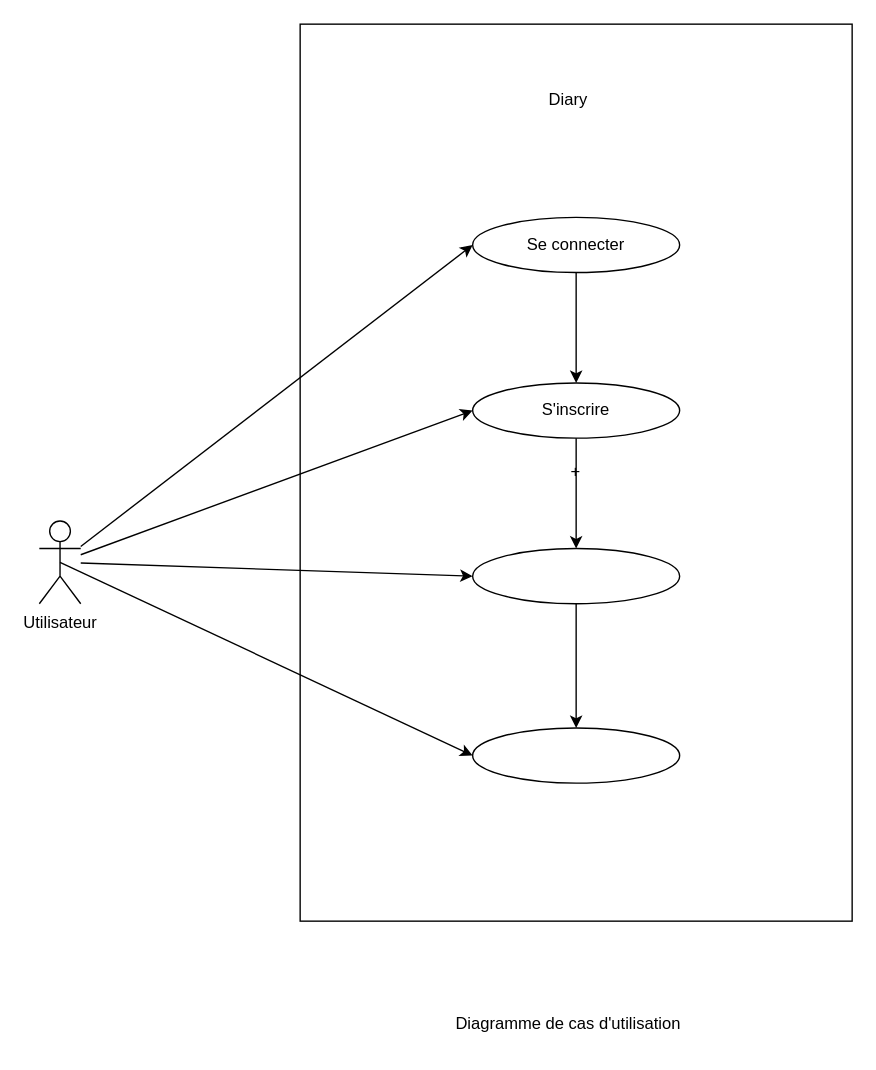
Some shapes in this 876 by 1070 pixel diagram are drawn without their labels. The shapes that lost their labels are listed below. From the top down, each one's centre as x and y in pixels, then its label:
At (x=575, y=575): "Enregistrer un journal".
At (x=575, y=755): "Supprimer un journal".
